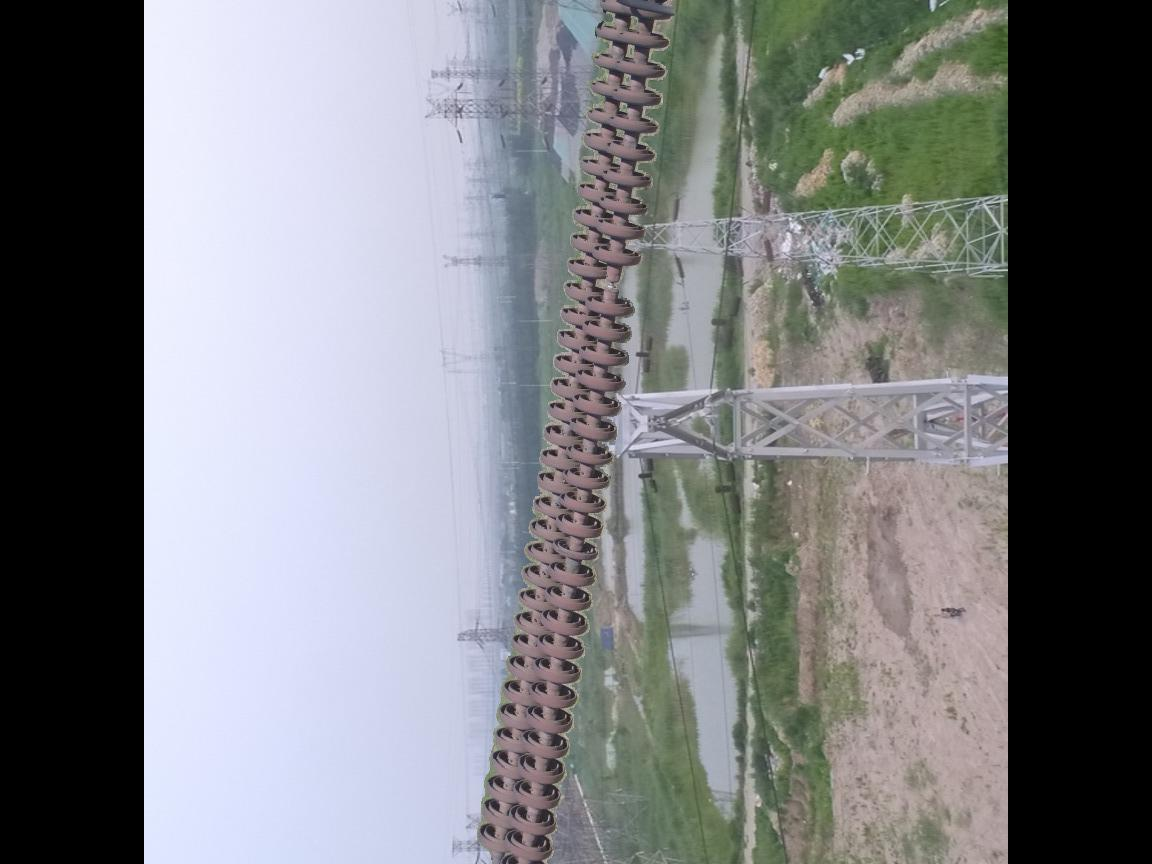insulator: (465, 1, 682, 864)
insulator_stringdrop: (583, 242, 642, 321)
